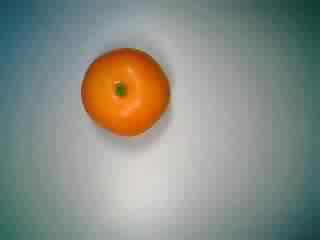orange: (76, 42, 175, 139)
